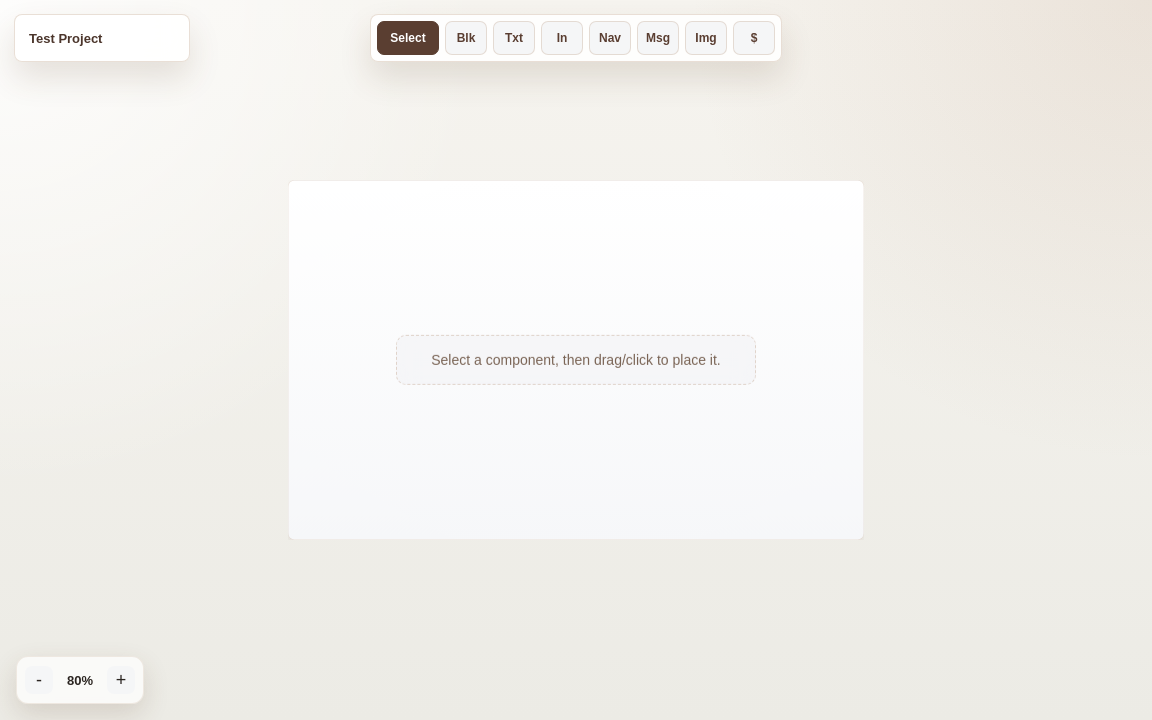
Scenario: BoardCanvas › creates a generic component at the old generic block default size
expect the element with class "board-canvas" is shown: met, box 288,180 -> 864,540
Click the button with aria-label "Generic".
click(466, 38)  # box 445,21 -> 487,55
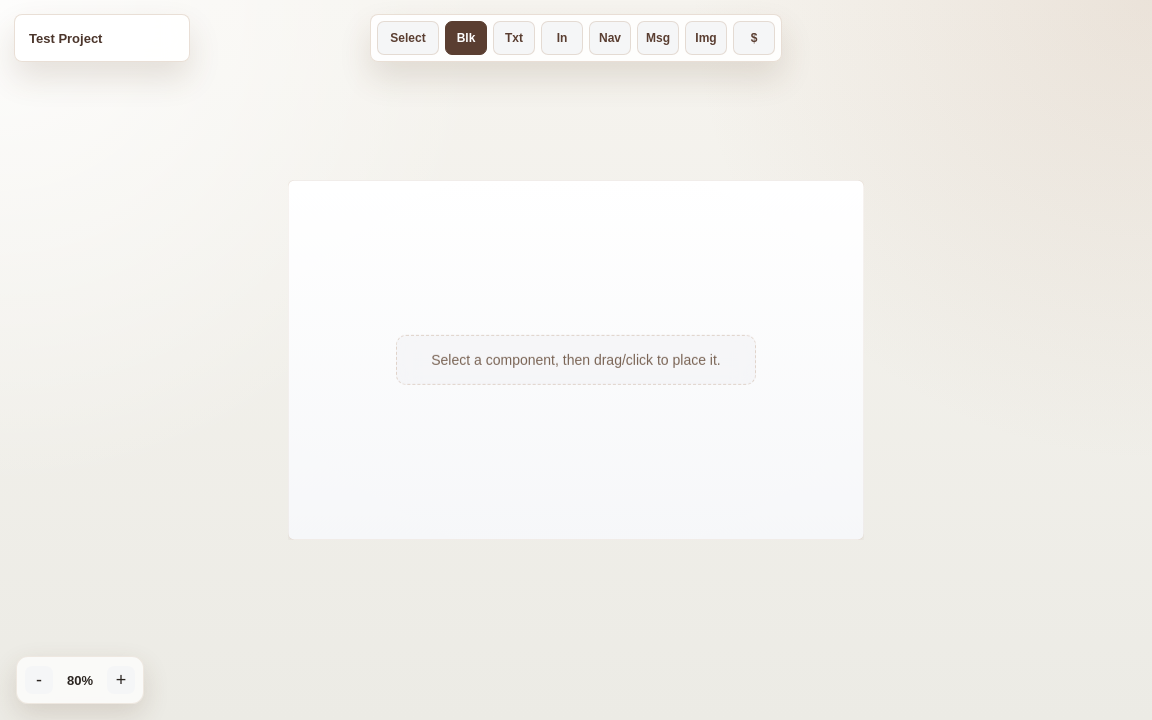
Press the mouse on the element with class "board-canvas" at (576, 360), box 288,180 -> 864,540
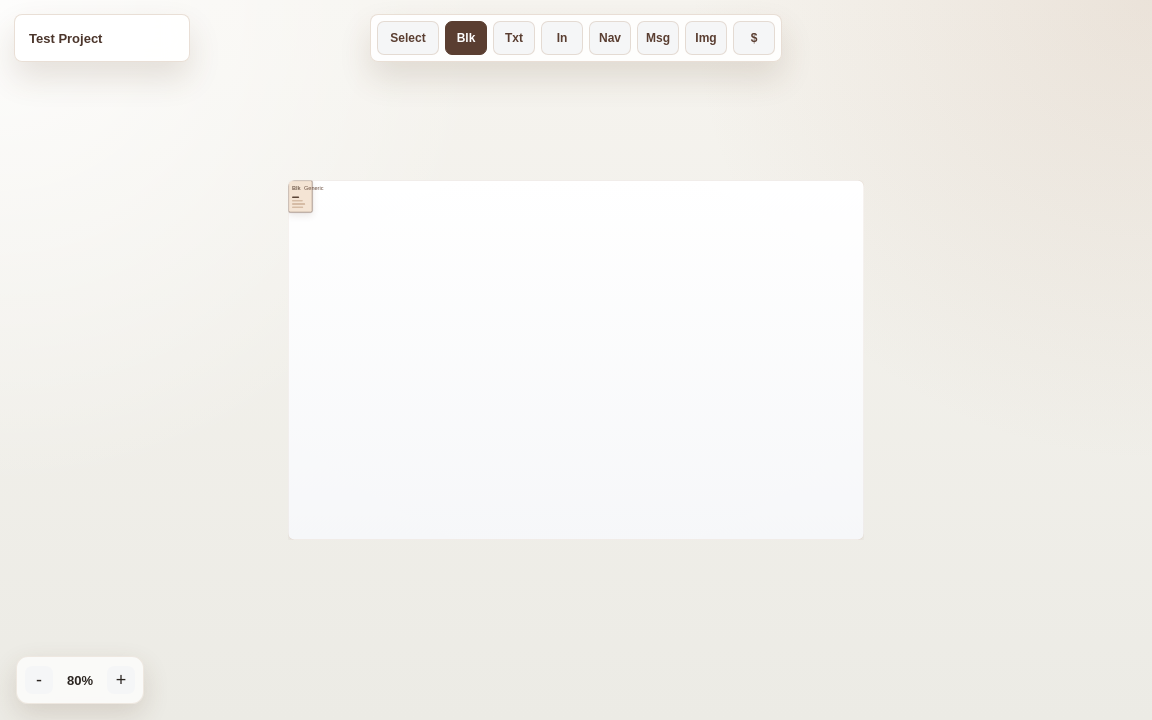
expect the button "Generic" is shown: met, box 304,184 -> 321,192
